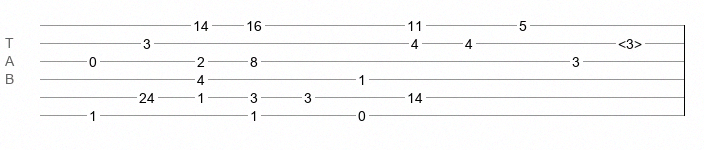0: (89, 54, 97, 64), (358, 108, 366, 118)
1: (89, 108, 97, 118), (197, 90, 205, 100), (250, 108, 258, 118), (358, 72, 366, 82)
11: (407, 18, 423, 28)
14: (193, 18, 209, 28), (407, 90, 423, 100)
16: (246, 18, 262, 28)
2: (197, 54, 205, 64)
24: (139, 90, 155, 100)
3: (143, 36, 151, 46), (250, 90, 258, 100), (304, 90, 312, 100), (572, 54, 580, 64)
4: (197, 72, 205, 82), (411, 36, 419, 46), (465, 36, 473, 46)
5: (519, 18, 527, 28)
8: (250, 54, 258, 64)
harmonic: (618, 36, 642, 46)
